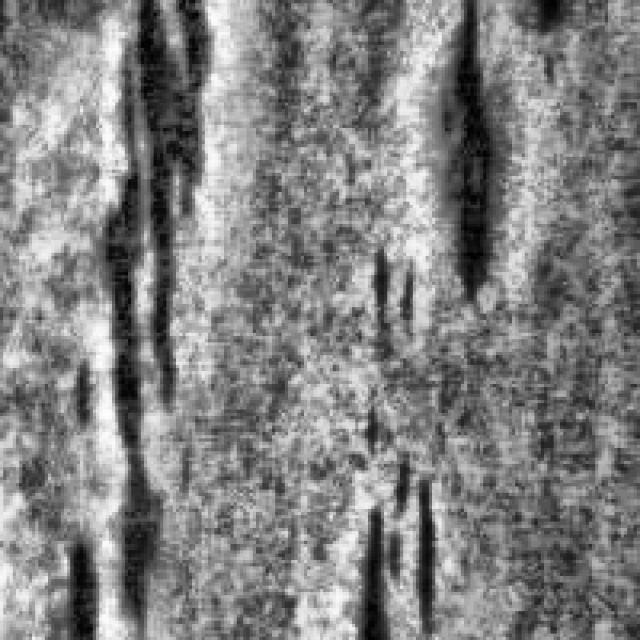Patches: (54, 0, 223, 630), (348, 236, 442, 634), (426, 0, 502, 301), (528, 0, 570, 80)
